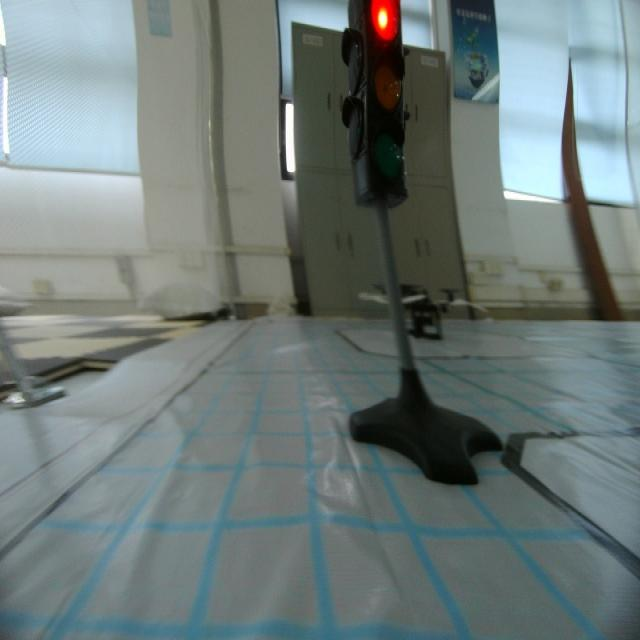red: (342, 0, 415, 215)
